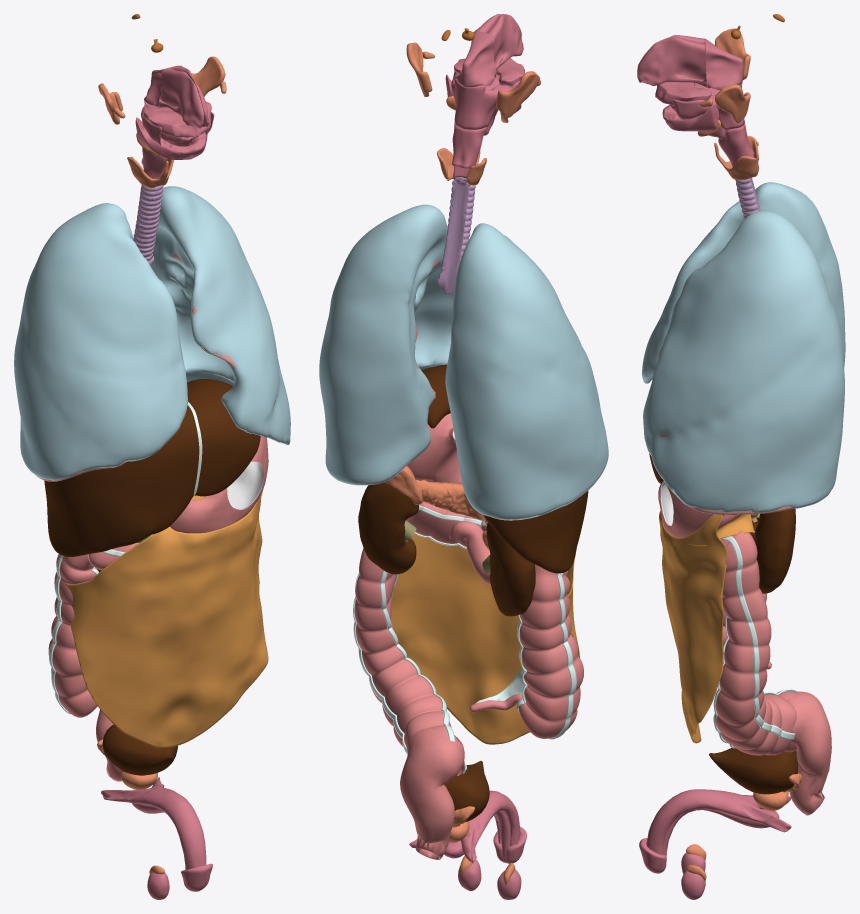
File: visceral-systems.glb
3 renders of one model, left to right at view 1: azimuth 30°, elevation 25°; view 2: azimuth 150°, elevation 25°; view 3: azimuth 270°, elevation 25°, orthographic. The views are drawn at different scales.
Visible parts, largest first — view 1: Pleura, Greater omentum, Liver, Ascending colon, Corpus cavernosum of penis, Stomach, Gingiva, Urinary bladder, Mucosa of nasal cavity, Trachea, Mucosa of stomach, Parotid gland.l (+3 smaller); view 2: Pleura, Greater omentum, Ascending colon, Descending colon, Sigmoid colon, Liver, Kidney.l, Kidney.r, Trachea, Stomach, Oropharynx, Corpus cavernosum of penis (+15 smaller); view 3: Pleura, Greater omentum, Descending colon, Sigmoid colon, Corpus cavernosum of penis, Mucosa of nasal cavity, Urinary bladder, Kidney.l, Gingiva, Mesocolic taenia, Nasopharynx, Stomach (+11 smaller).
Part boxes in pixels (left/top/right/bottom): Pleura: left=14, top=186, right=290, bottom=480; Greater omentum: left=65, top=493, right=268, bottom=747; Liver: left=44, top=379, right=260, bottom=556; Ascending colon: left=48, top=554, right=97, bottom=717; Corpus cavernosum of penis: left=101, top=777, right=206, bottom=869; Stomach: left=170, top=436, right=268, bottom=533; Gingiva: left=135, top=101, right=211, bottom=159; Urinary bladder: left=102, top=724, right=177, bottom=775; Mucosa of nasal cavity: left=159, top=65, right=210, bottom=128; Trachea: left=133, top=184, right=163, bottom=265; Mucosa of stomach: left=227, top=461, right=263, bottom=509; Parotid gland.l: left=191, top=56, right=225, bottom=96; Pleura: left=319, top=204, right=608, bottom=520; Greater omentum: left=391, top=532, right=579, bottom=744; Ascending colon: left=518, top=564, right=583, bottom=738; Descending colon: left=354, top=548, right=464, bottom=775; Sigmoid colon: left=400, top=727, right=464, bottom=859; Liver: left=421, top=364, right=588, bottom=573; Kidney.l: left=358, top=482, right=418, bottom=574; Kidney.r: left=486, top=522, right=535, bottom=616; Trachea: left=436, top=177, right=475, bottom=295; Stomach: left=407, top=413, right=462, bottom=483; Oropharynx: left=451, top=71, right=520, bottom=129; Corpus cavernosum of penis: left=409, top=790, right=520, bottom=862; Pleura: left=642, top=182, right=845, bottom=513; Greater omentum: left=659, top=511, right=728, bottom=743; Descending colon: left=715, top=530, right=796, bottom=755; Sigmoid colon: left=788, top=691, right=831, bottom=815; Corpus cavernosum of penis: left=646, top=789, right=791, bottom=854; Mucosa of nasal cavity: left=637, top=35, right=706, bottom=86; Urinary bladder: left=709, top=748, right=798, bottom=794; Kidney.l: left=755, top=508, right=795, bottom=593; Gingiva: left=655, top=82, right=718, bottom=131; Mesocolic taenia: left=720, top=536, right=795, bottom=739; Nasopharynx: left=705, top=39, right=743, bottom=89; Stomach: left=658, top=482, right=740, bottom=537.
Bounding box in the file's own units: 0.2634 × 0.8931 × 0.1926.
